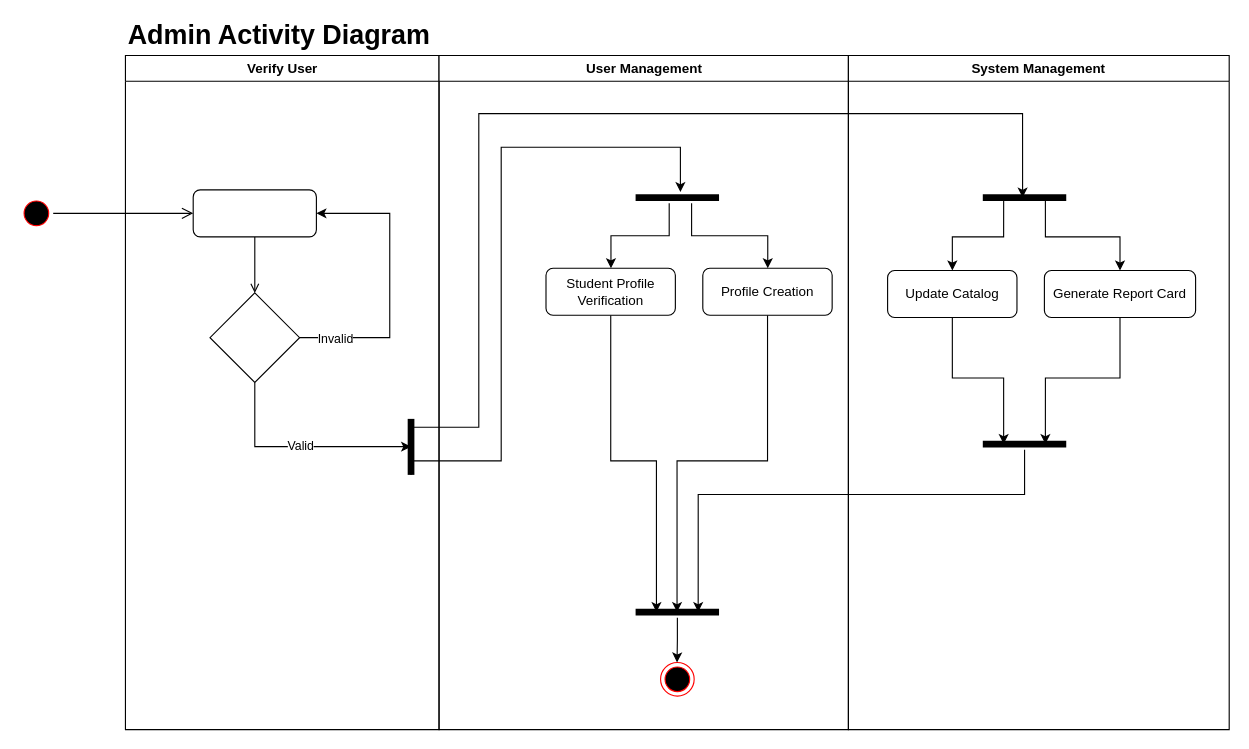
The diagram is 1249 pixels wide and 749 high, and some of its shapes have lost their labels. The shapes that lost their labels are listed below. From the top down, each one's centre as x and y in pixels, then its label:
At point 254,213: "login".
At point 254,337: "check credentials".
